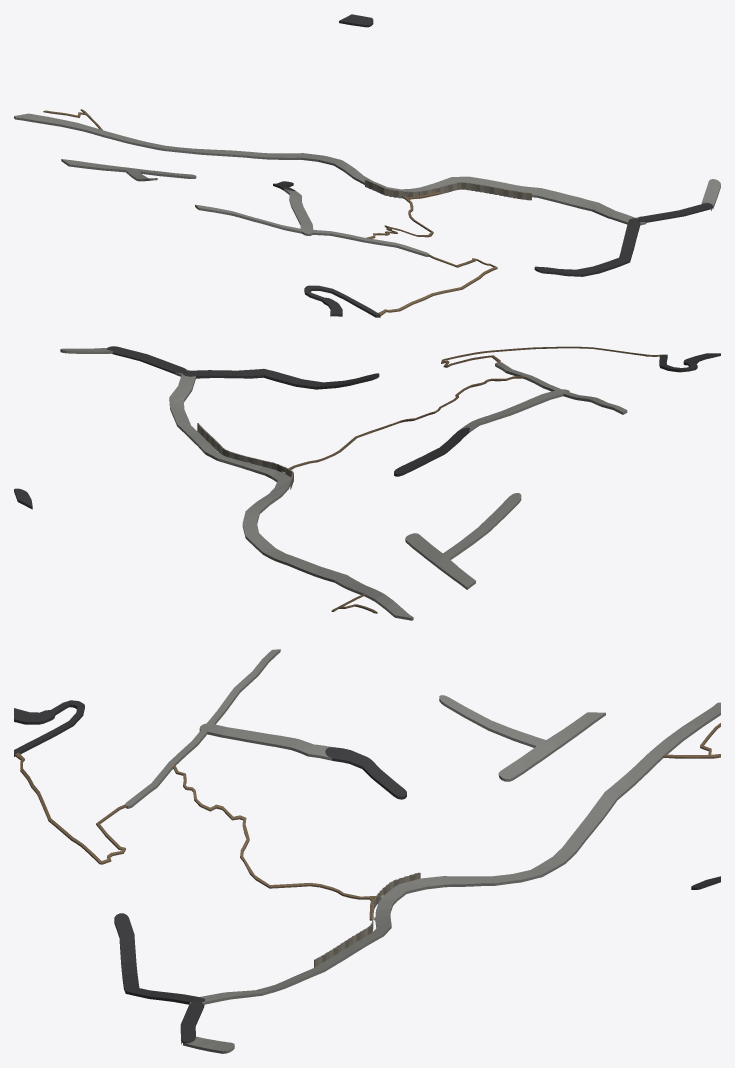
3 renders of one model, top to bottom at view 1: azimuth 30°, elevation 25°; view 2: azimuth 150°, elevation 25°; view 3: azimuth 270°, elevation 25°, orthographic. The views are drawn at different scales.
Size of the model in its own units: 292 by 57.69 by 292.
